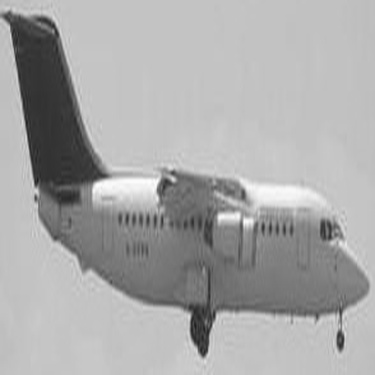airplane: (1, 4, 370, 363)
